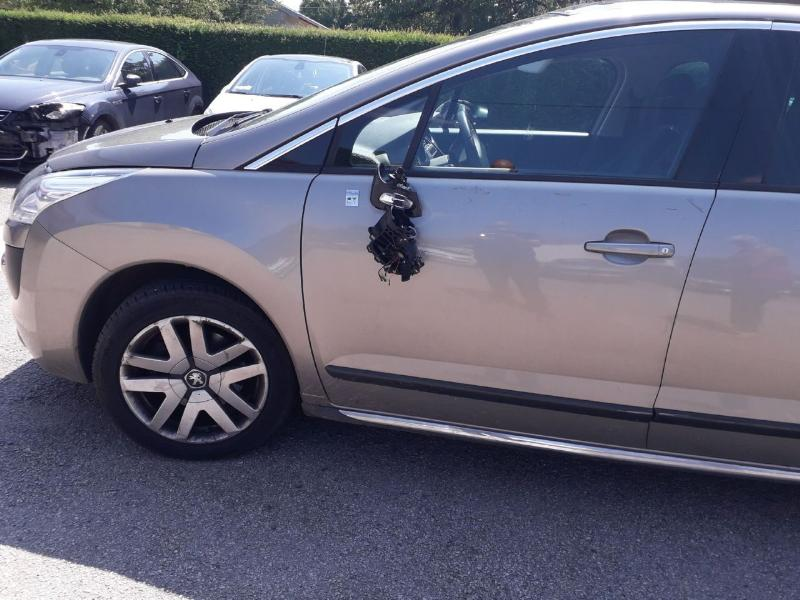front door: (264, 13, 780, 487)
